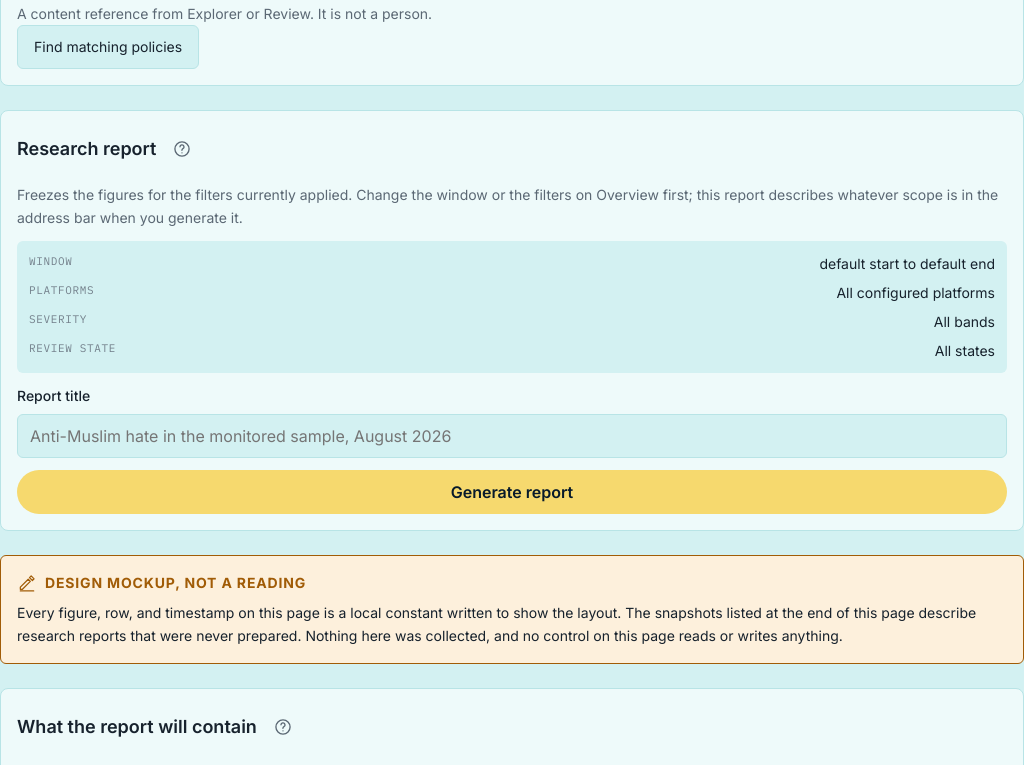
Test: ReportsPage › freezes figures with their denominators and says they will not change
The image size is (1024, 765).
(page scrolled)
Type "August monitored sample" into the field labelled "Report title" at (512, 436), box x1=17 y1=414 x2=1007 y2=458
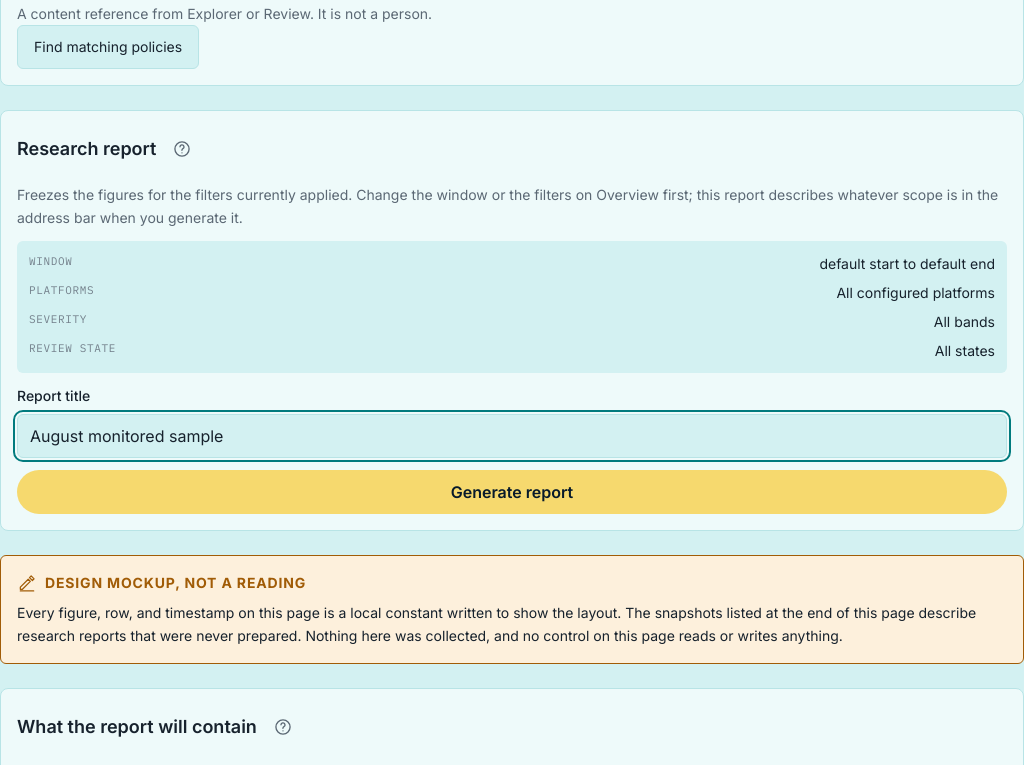
Click the button "Generate report" at (512, 492), box x1=17 y1=470 x2=1007 y2=514
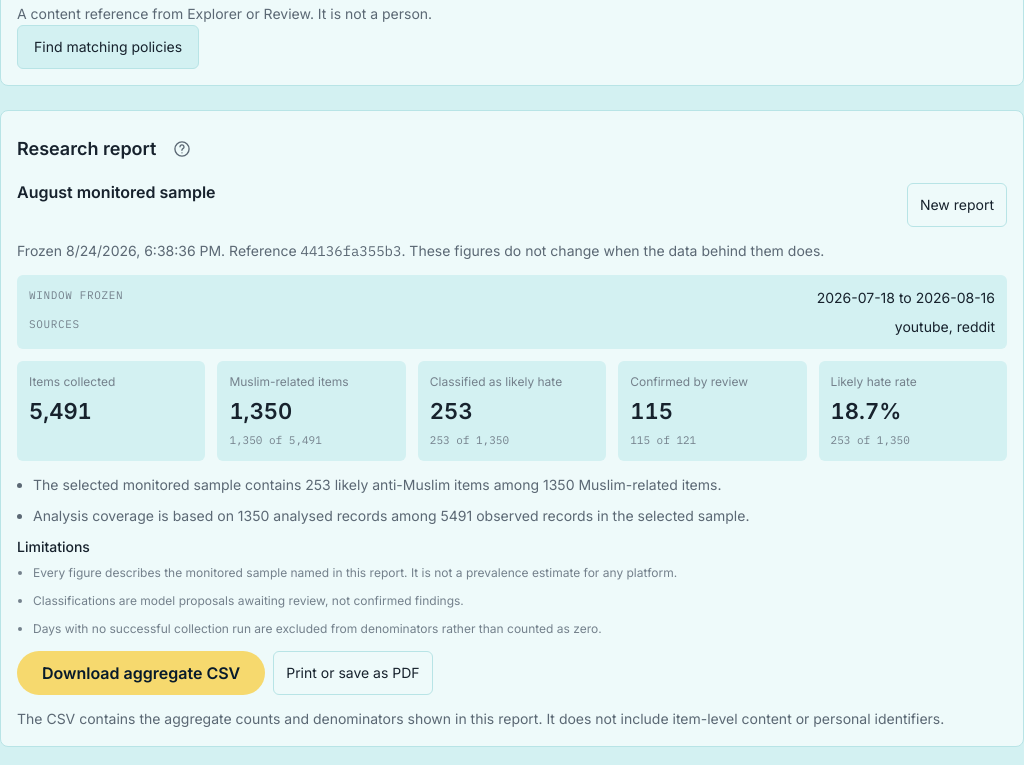
expect the text "Muslim-related items" is shown: met, box x1=229 y1=374 x2=349 y2=389
expect the text "Likely hate rate" is shown: met, box x1=831 y1=374 x2=917 y2=389
expect the text "do not change when the data behind them does" is shown: met, box x1=401 y1=242 x2=824 y2=259
